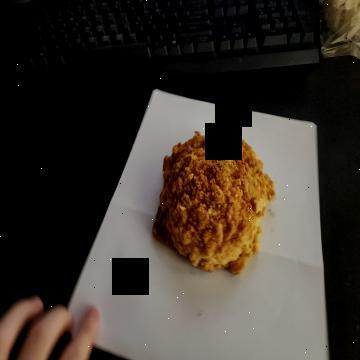soboru_bread: (151, 128, 274, 274)
